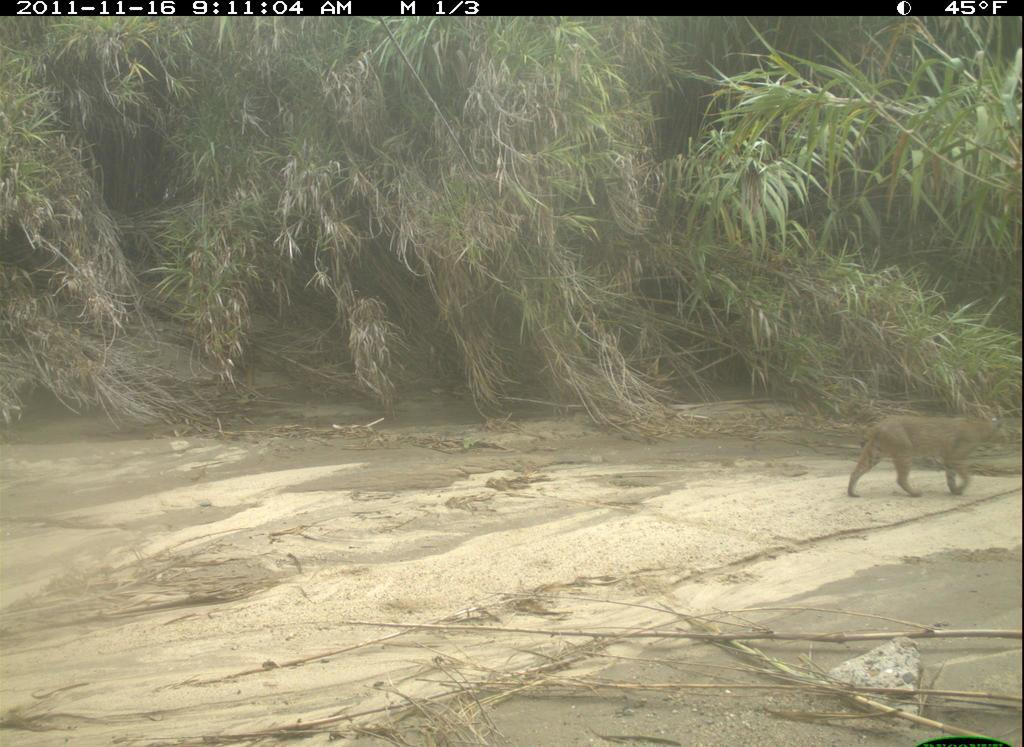bobcat: (836, 397, 1018, 509)
